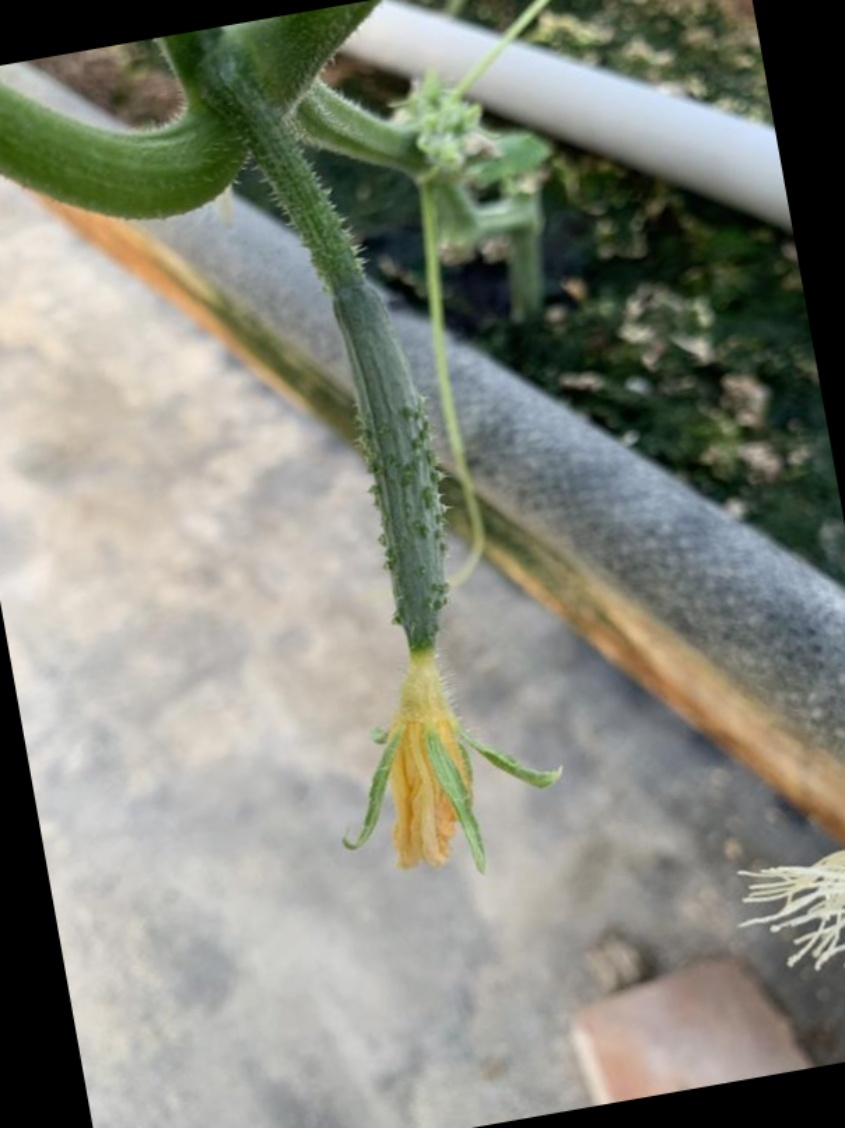bear: (286, 264, 548, 885)
